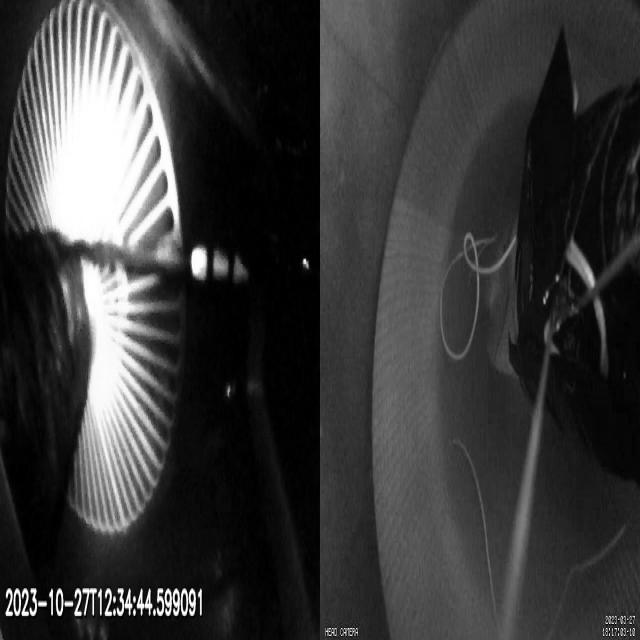white-dots: (191, 246, 250, 282)
